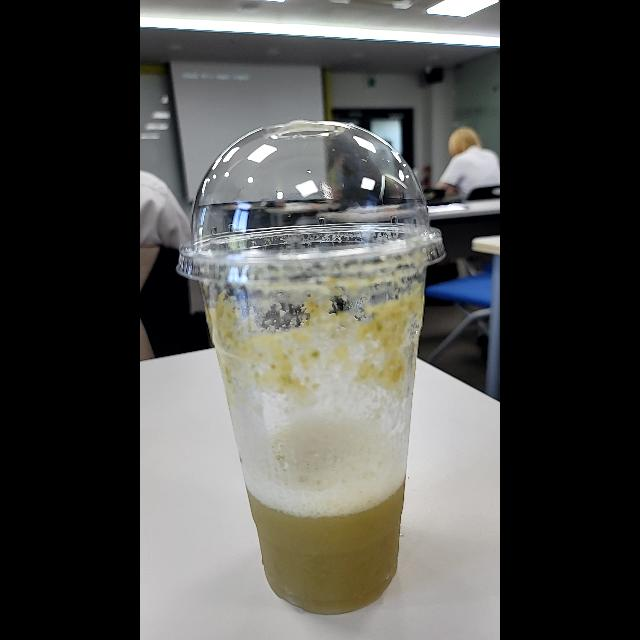plastic_cup: (170, 116, 448, 616)
